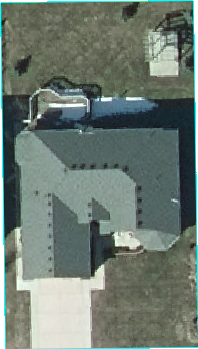house: (13, 126, 184, 282)
